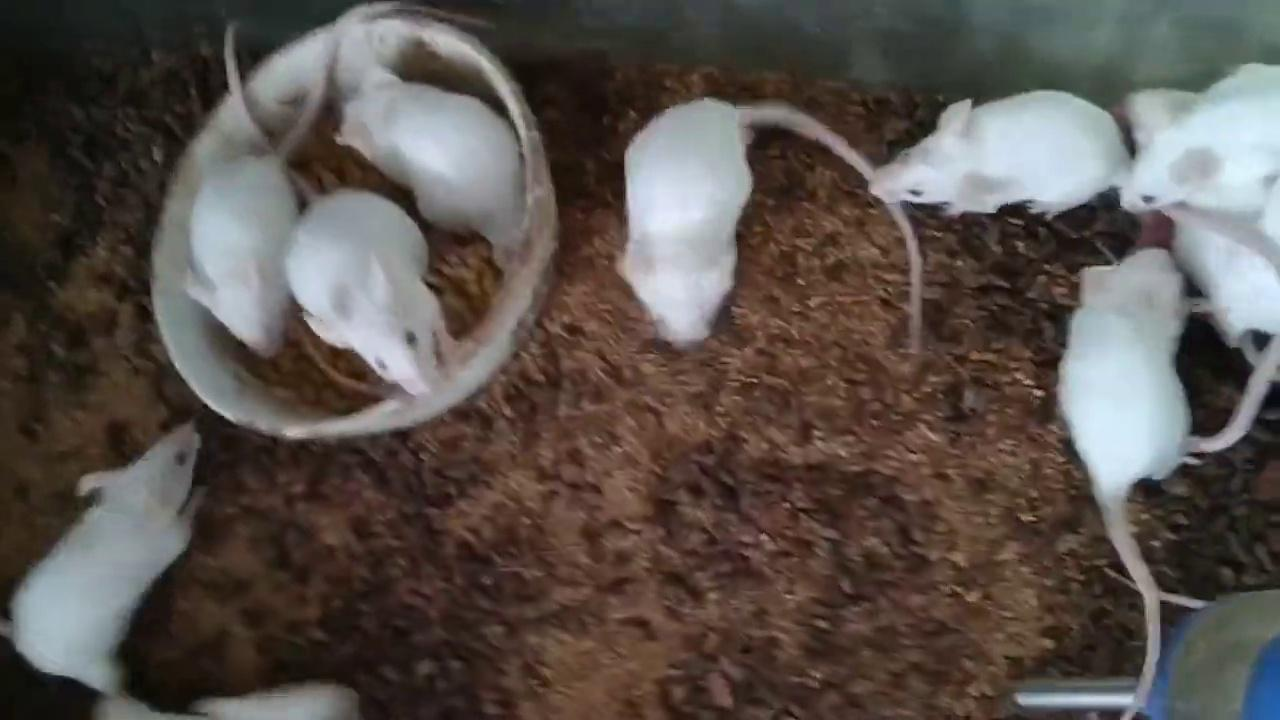rat: (615, 99, 921, 347), (1056, 248, 1189, 720), (0, 419, 209, 695), (284, 189, 458, 396), (868, 88, 1129, 217), (1121, 63, 1280, 211), (184, 160, 300, 355)
